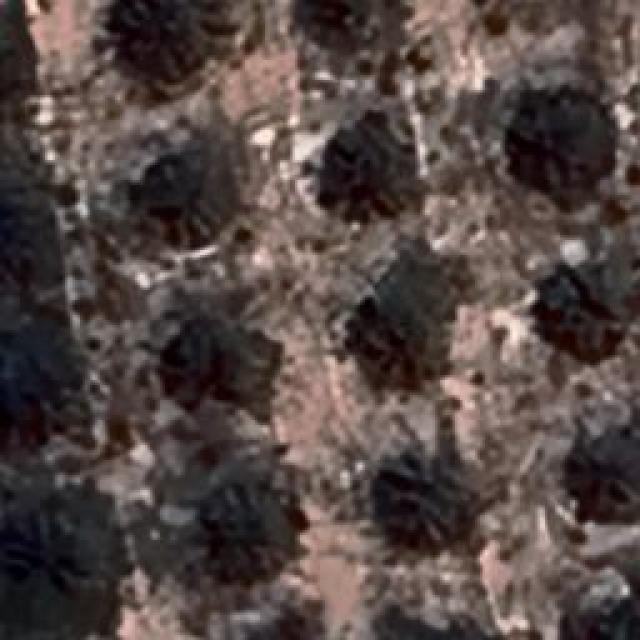PalmTree: (48, 22, 349, 565), (158, 320, 268, 422), (144, 141, 248, 244), (0, 328, 92, 441), (200, 496, 302, 592), (544, 259, 638, 359), (514, 94, 604, 194), (331, 111, 414, 209), (390, 455, 482, 543), (116, 0, 222, 75), (346, 290, 434, 368), (577, 422, 640, 525), (0, 174, 45, 274), (238, 604, 324, 640), (0, 2, 26, 106), (573, 606, 640, 640), (0, 7, 17, 108), (577, 616, 640, 640)
